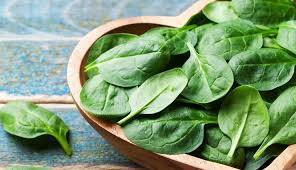spinach: (94, 48, 180, 118), (185, 40, 240, 113)
